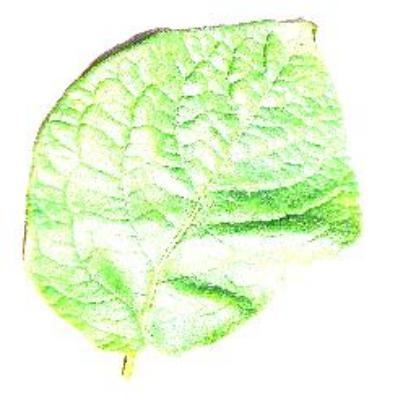Healthy-plant: (26, 12, 376, 382)
